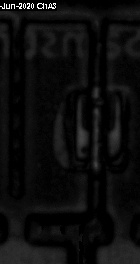led: (68, 90, 126, 167)
